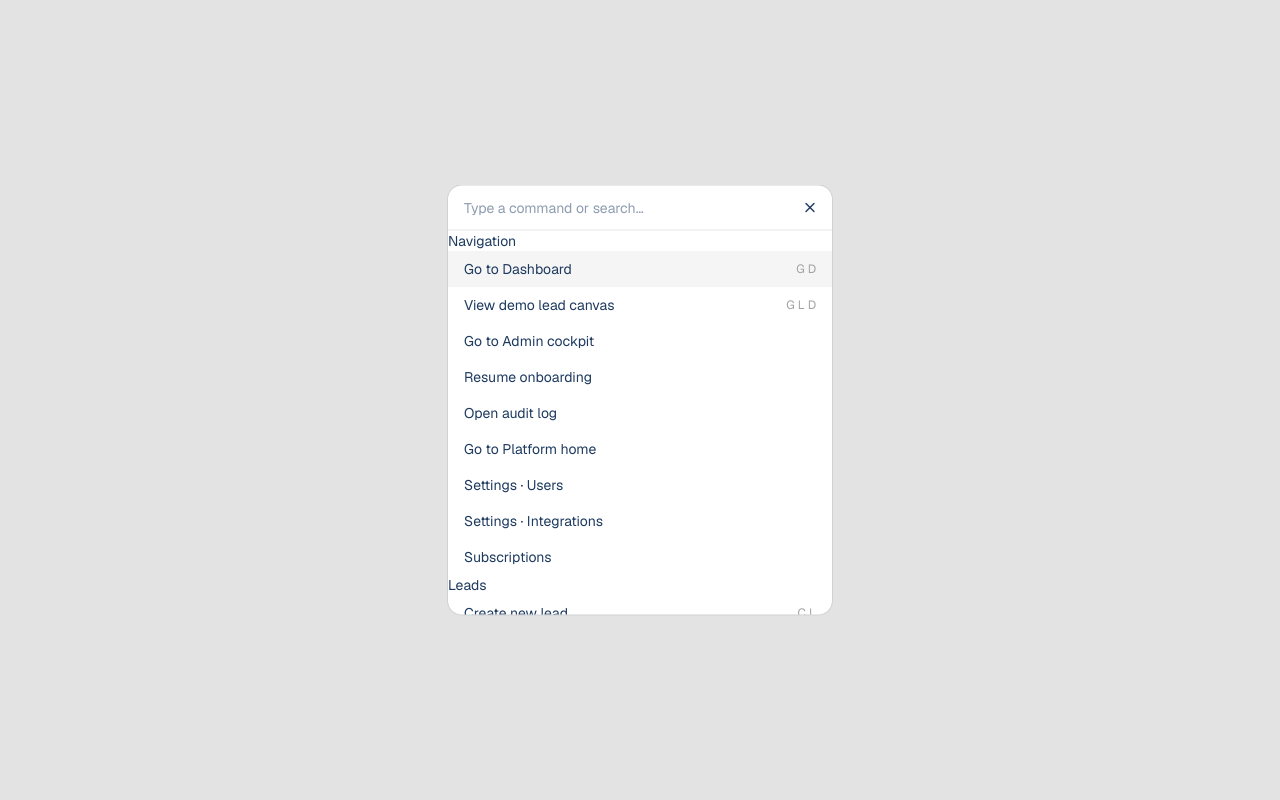
Test case: CommandPalette › activating Create new lead opens the New Lead dialog and closes the palette
Click the option with test id "command-lead-create".
click(516, 612)  # box [464, 604, 816, 622]
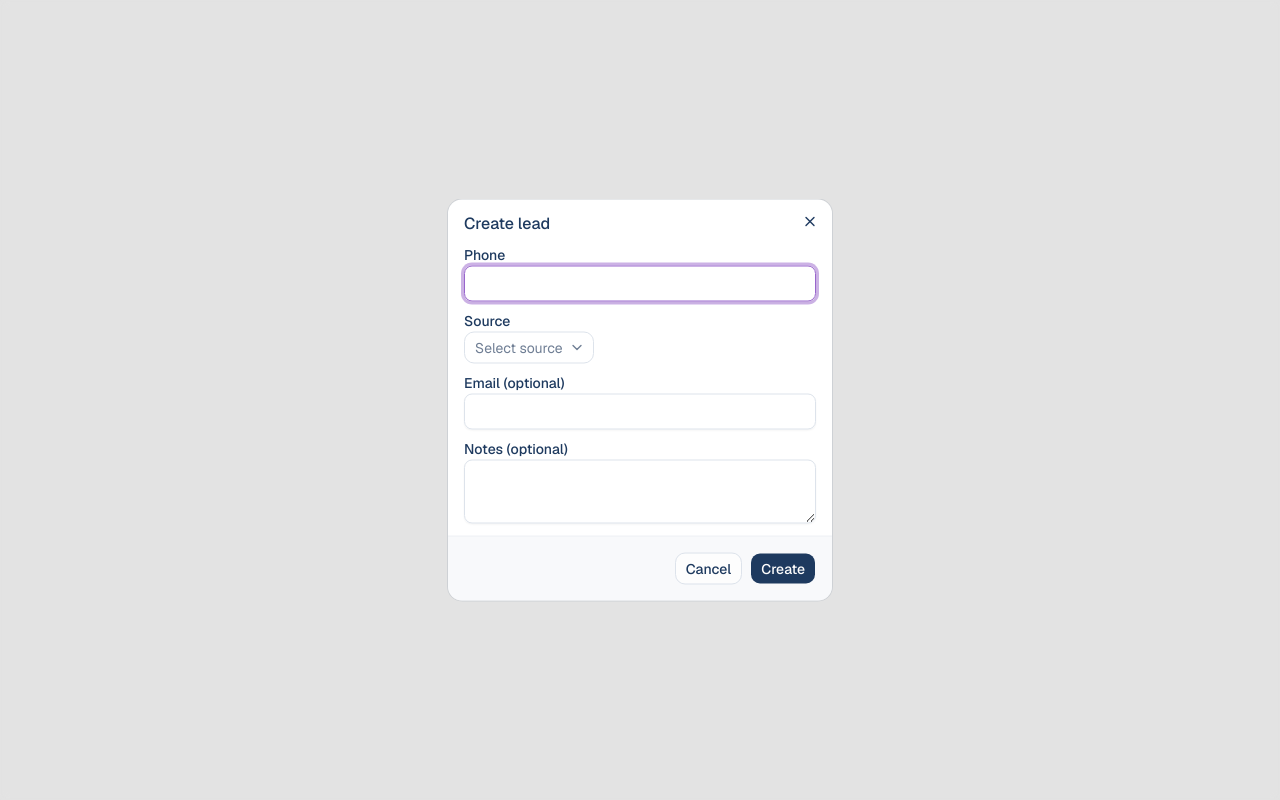
Now the dialog with test id "new-lead-dialog" is shown, box [448, 200, 832, 600]
